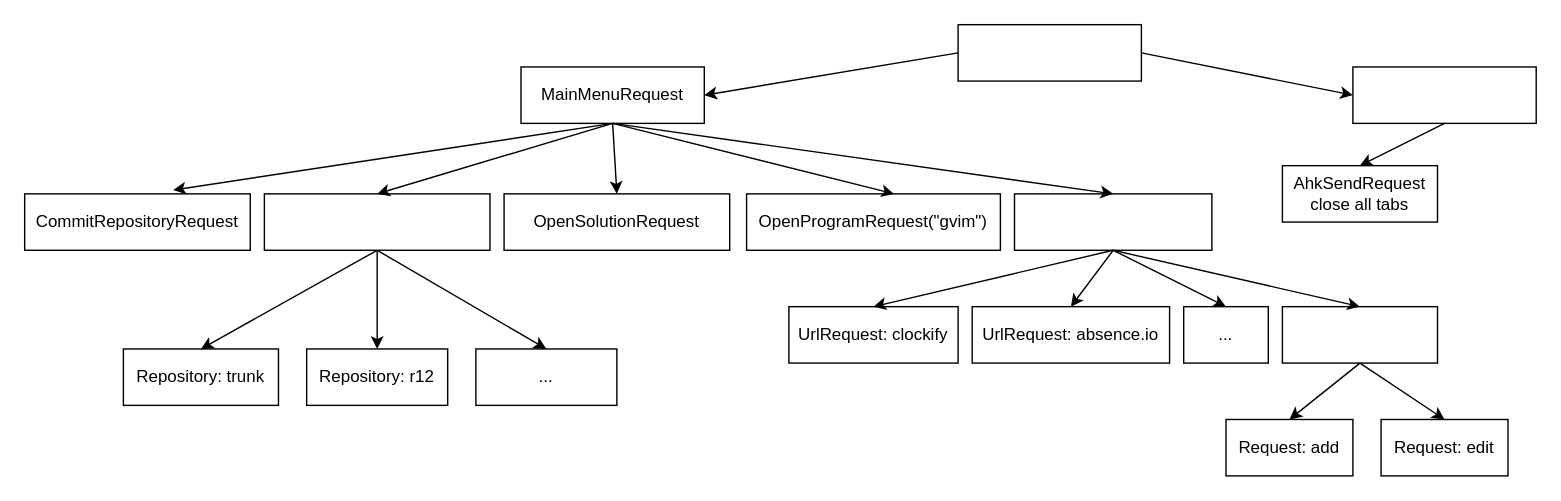
This 1561x501 diagram has some shape labels left out. Each missing label, with the centre of its shape:
"OptionRequest" goes at (x=1359, y=334).
"RootMenuRequest" goes at (x=1049, y=52).
"ShowRepositoryLogRequest" goes at (x=376, y=221).
"UrlCollectionRequest" goes at (x=1112, y=221).
"VisualStudioRequest" goes at (x=1443, y=94).
